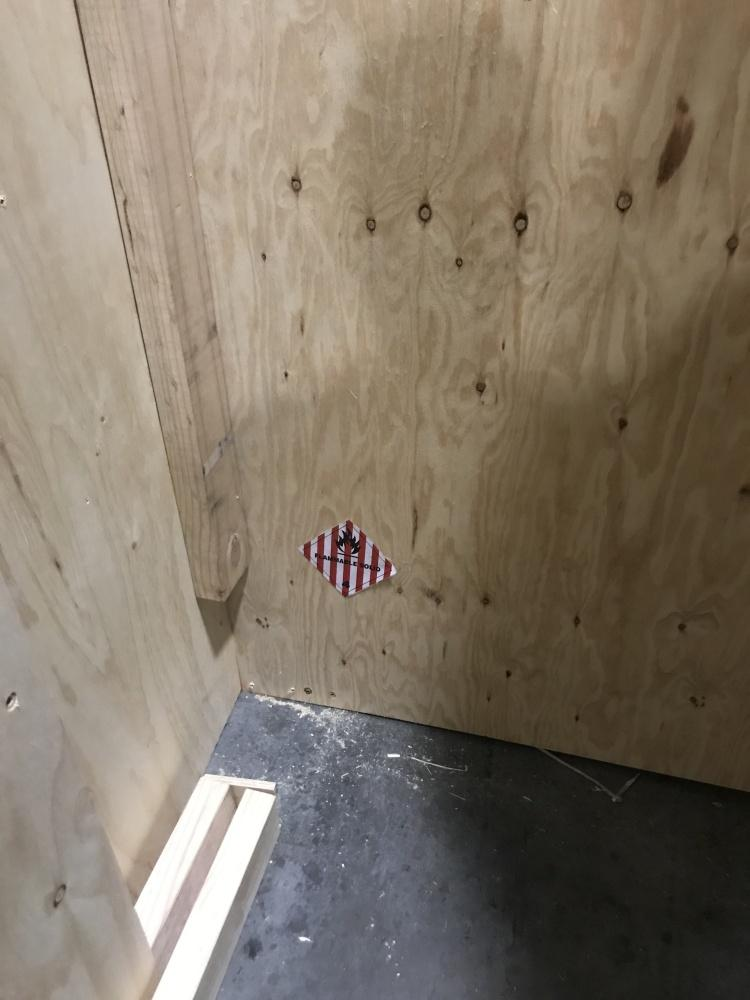flammable-solid: (296, 521, 400, 599)
